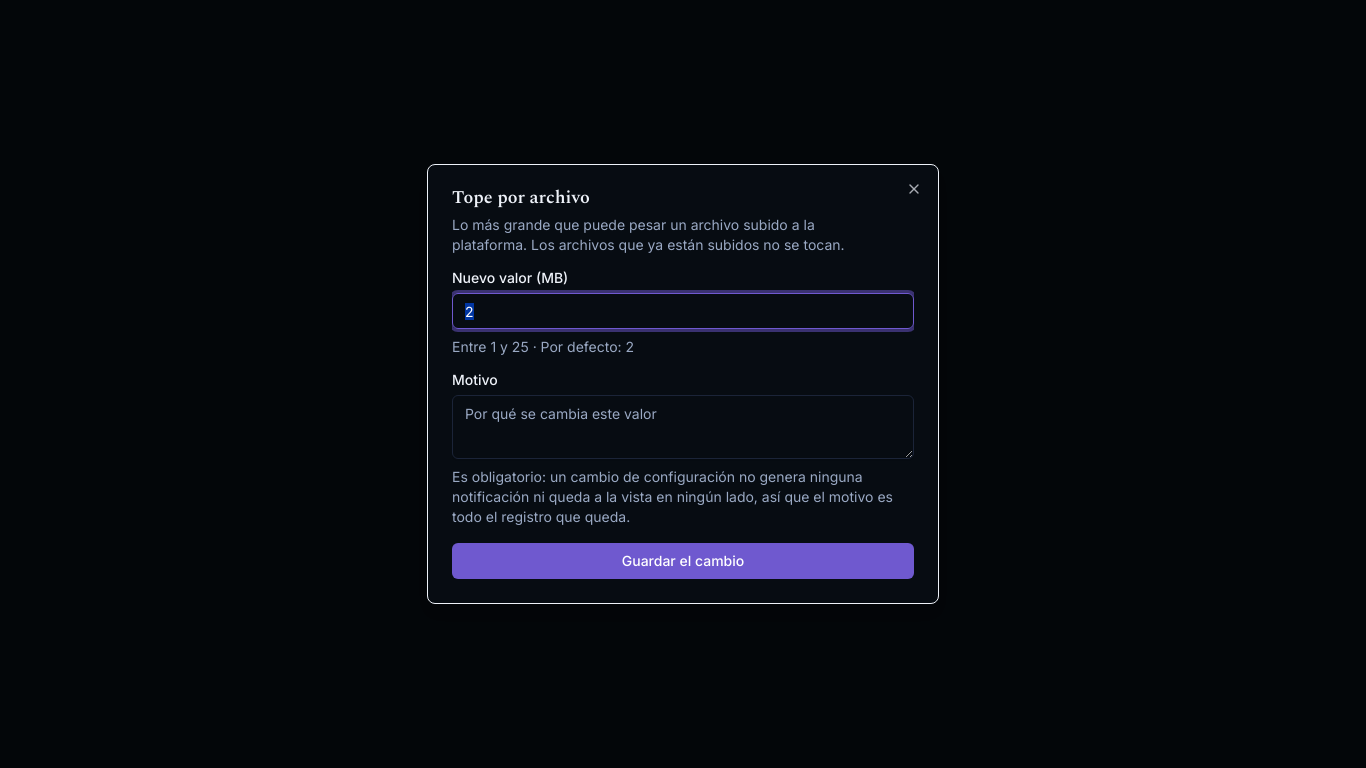
SettingValueDialog › renders the server’s refusal inline, with the bounds it sent
Replace the text in the field labelled "Nuevo valor (MB)" with "5" at (683, 311), box [452,293,914,329]
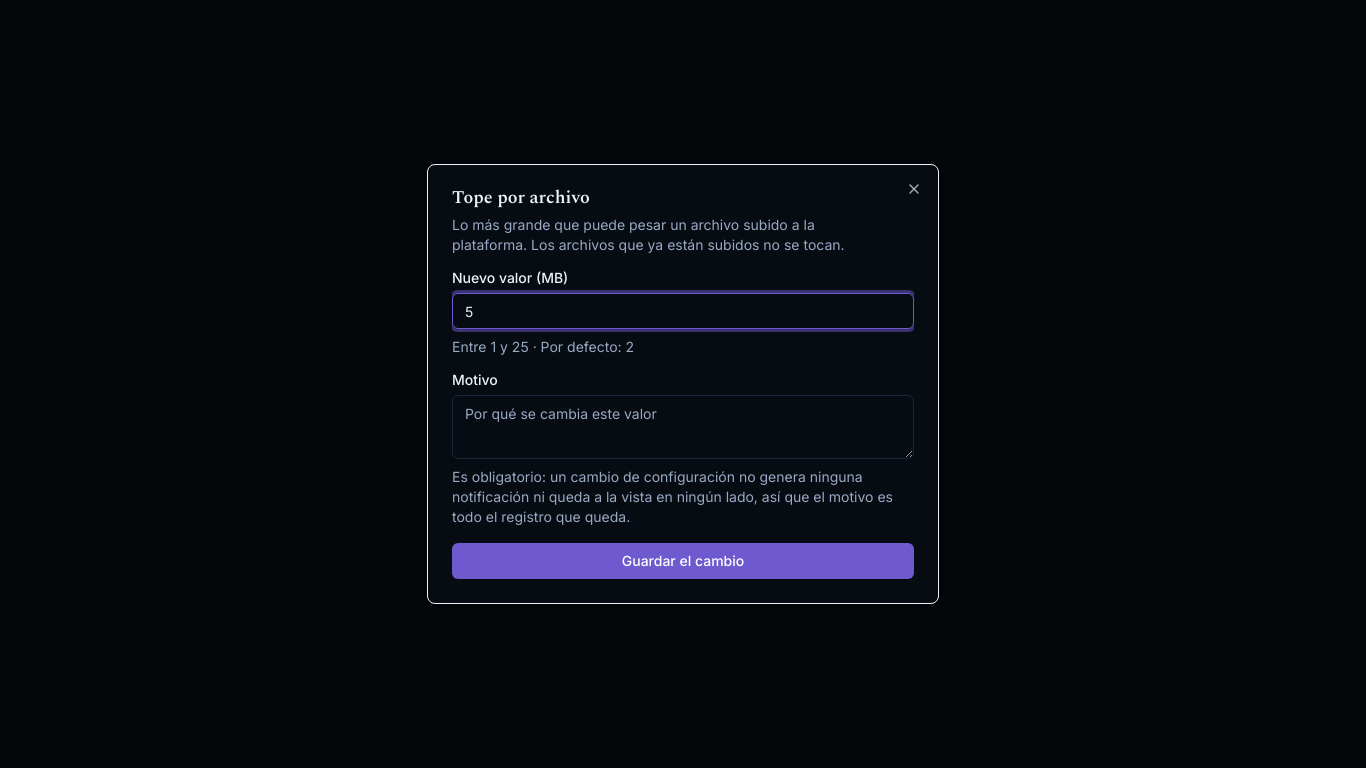
Type "porque sí" into the text box labelled "Motivo" at (683, 427), box [452,395,914,459]
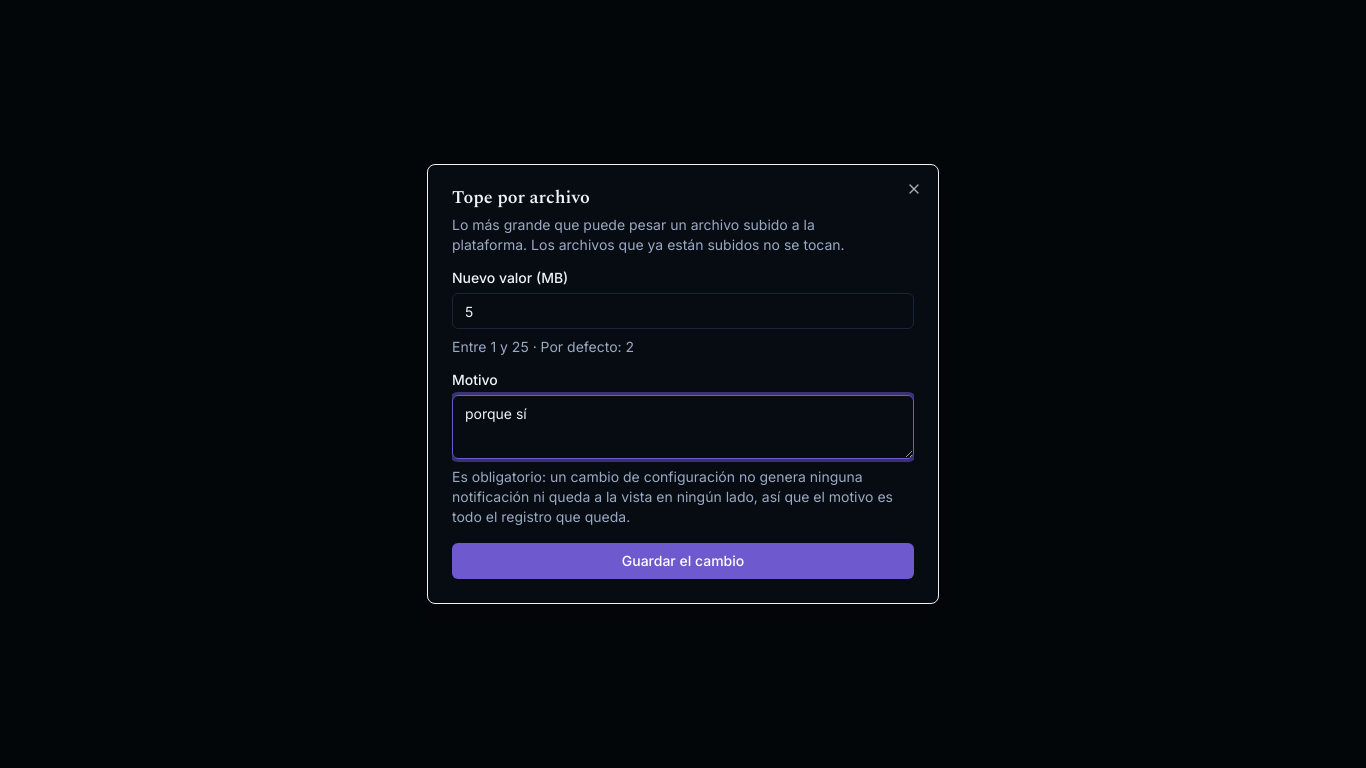
Click the button "Guardar el cambio" at (683, 561), box [452,543,914,579]
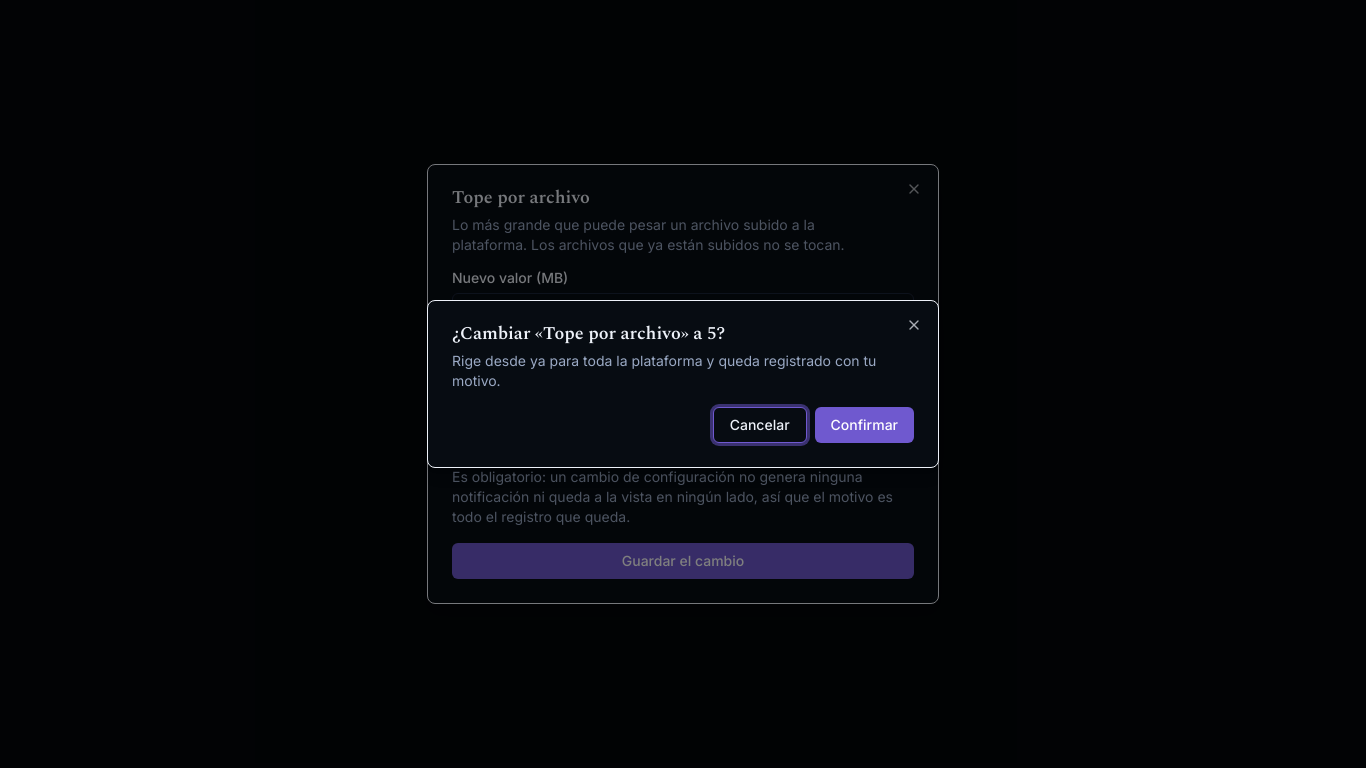
Click the button "Confirmar" at (864, 425), box [815,407,914,443]
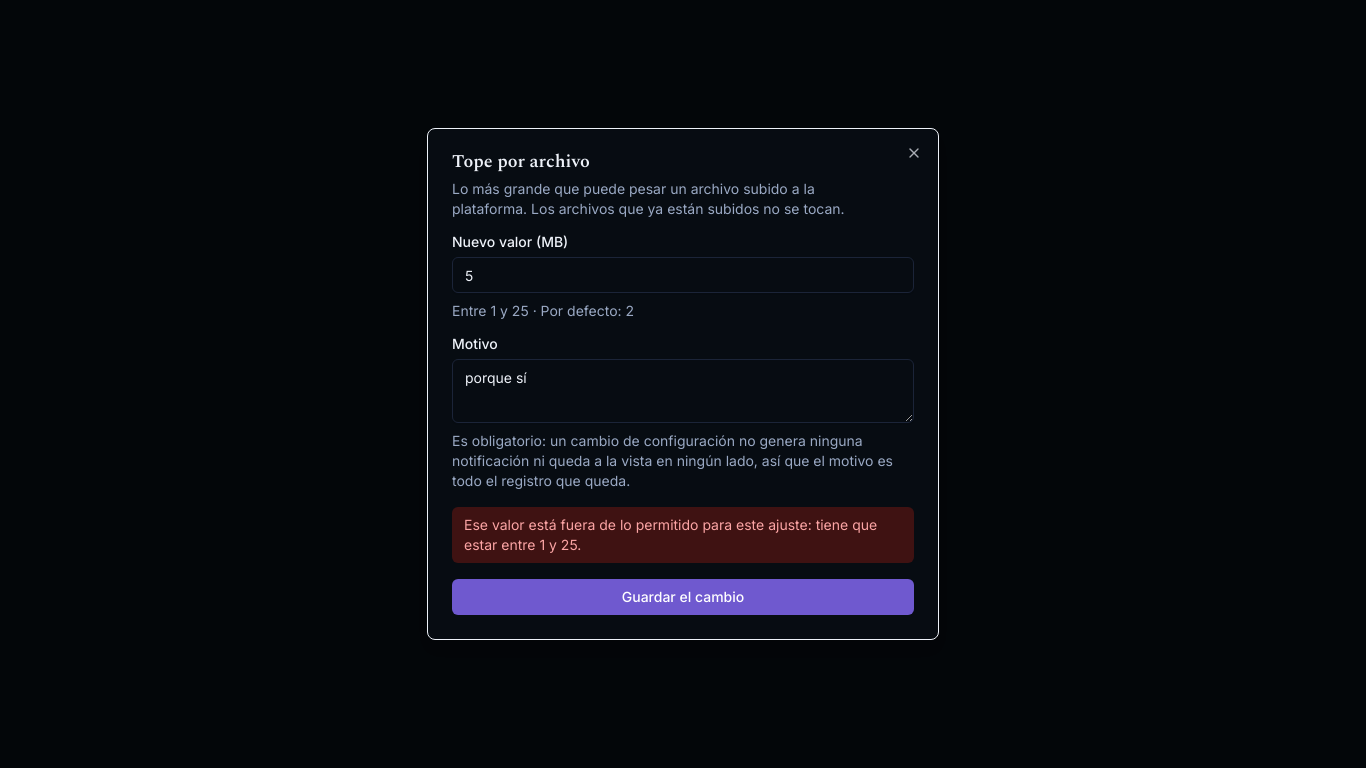
Expected: the message does not show "must be between", [452,507,914,563]
Result: the message shows "tiene que estar entre 1 y 25" at [464,516,877,553]
